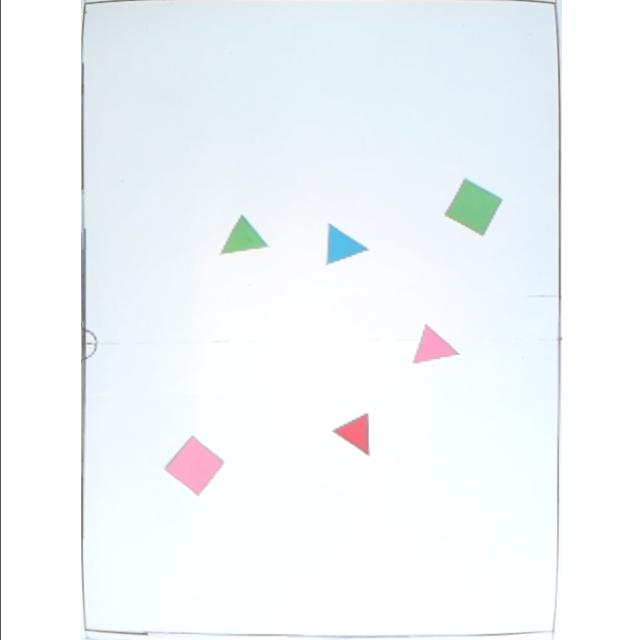blueTriangle: (322, 222, 368, 268)
greenSquare: (441, 178, 501, 238)
greenTriangle: (216, 214, 266, 258)
pinkSquare: (160, 434, 222, 496)
pinkTriangle: (408, 322, 459, 366)
redTriangle: (328, 411, 370, 457)
